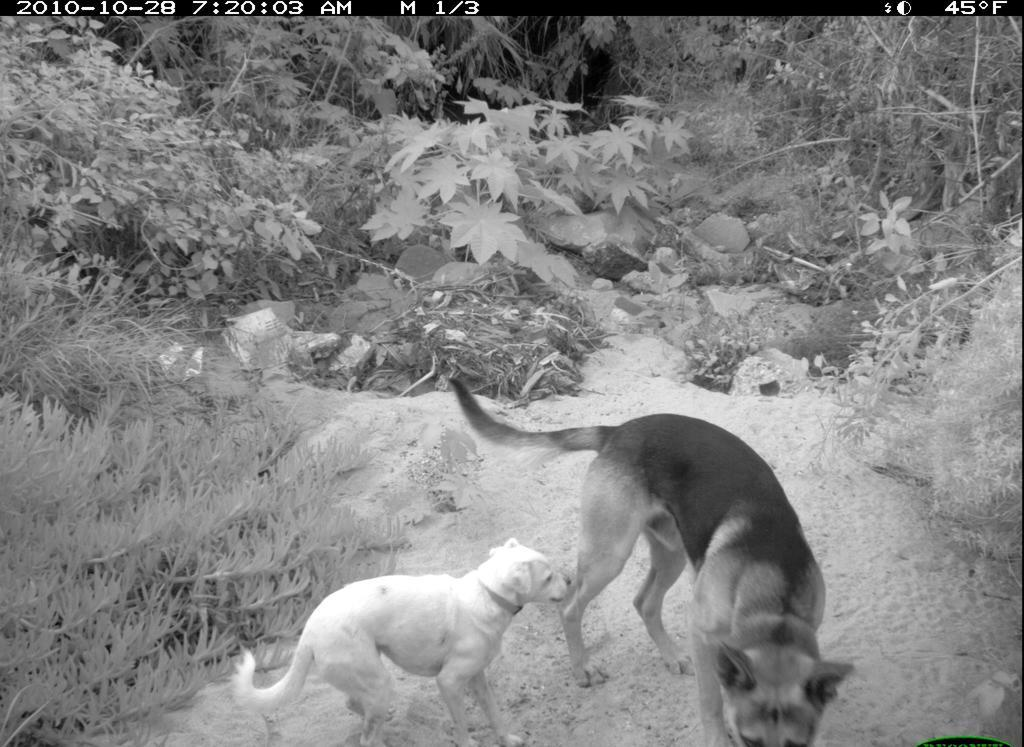dog: (431, 372, 870, 747), (239, 534, 577, 745)
